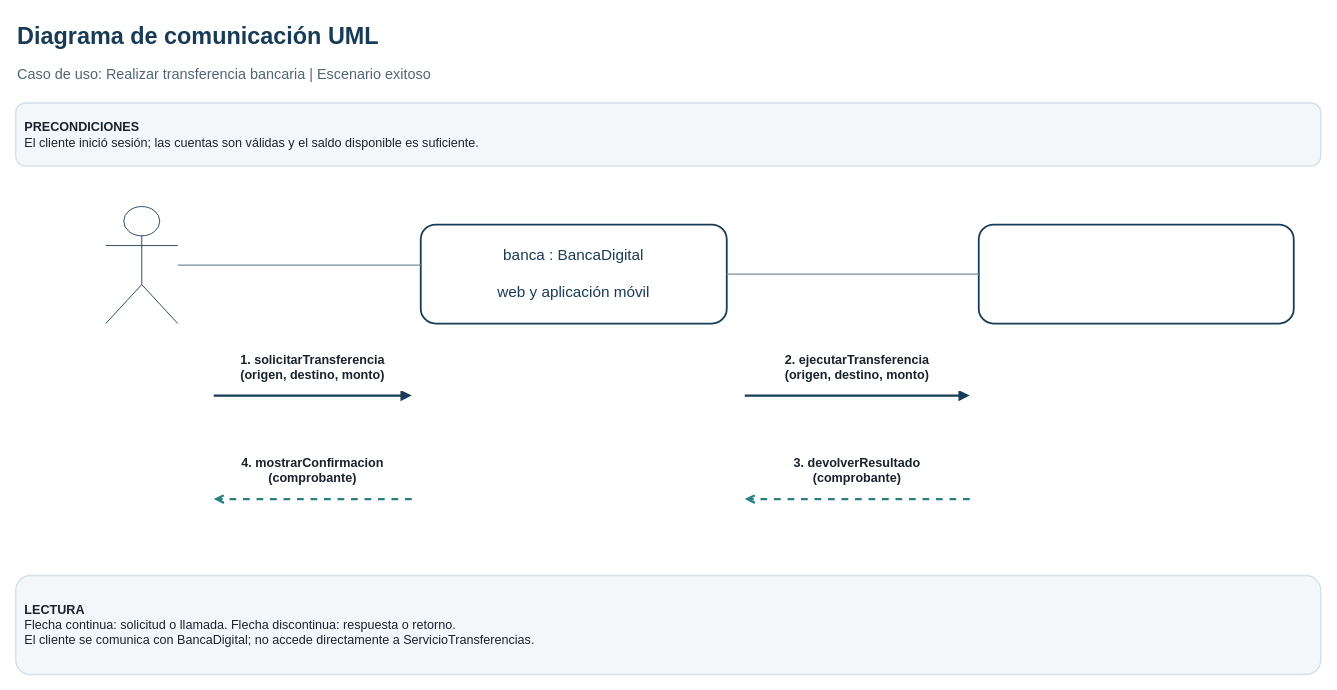
This 1337x690 diagram has some shape labels left out. The centre of each missing label's shape, as x and y in pixels:
"Cliente" goes at [141,265].
"transferencias : ServicioTransferencias" goes at [1135,273].
